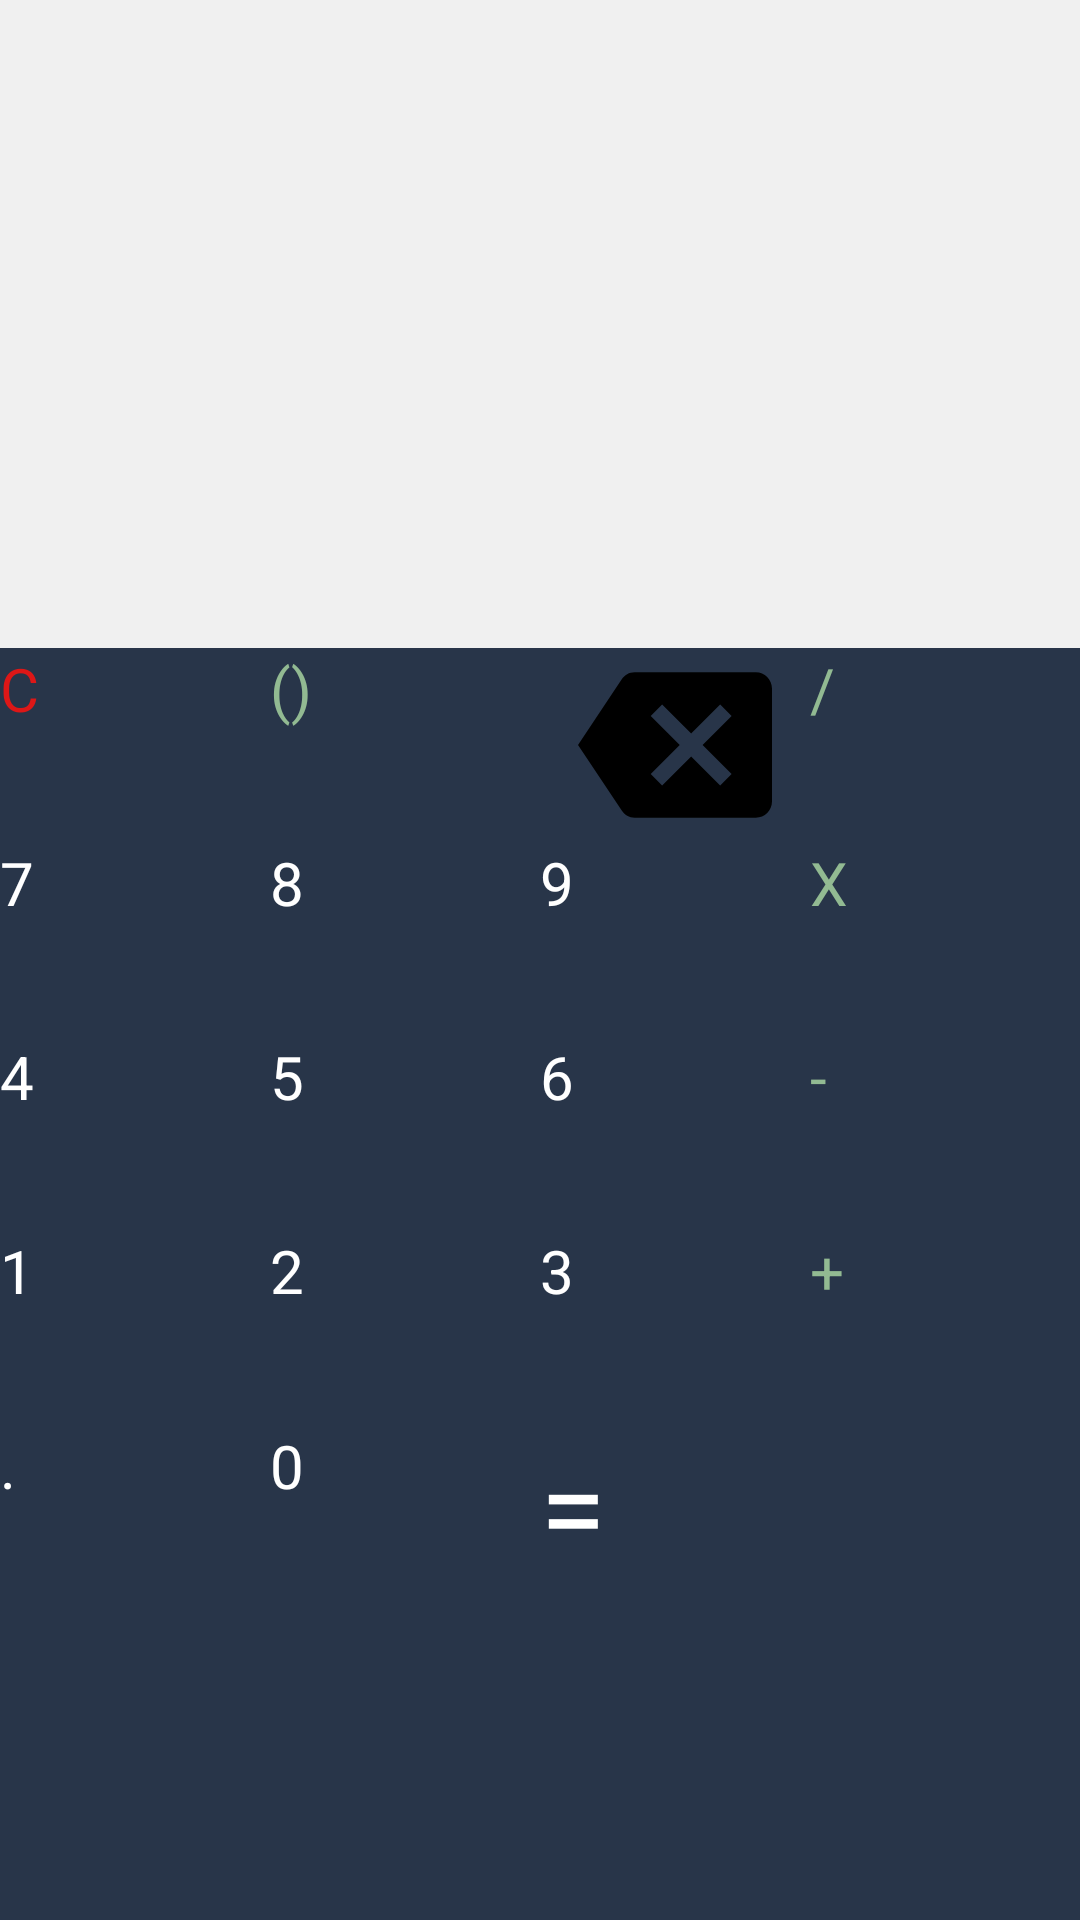

Icon bounding boxes for this 1080x1920 phone screenshot, format {"left": x1, "top": y1, "right": x2, "bottom": y2}:
backspace: {"left": 578, "top": 672, "right": 772, "bottom": 818}
